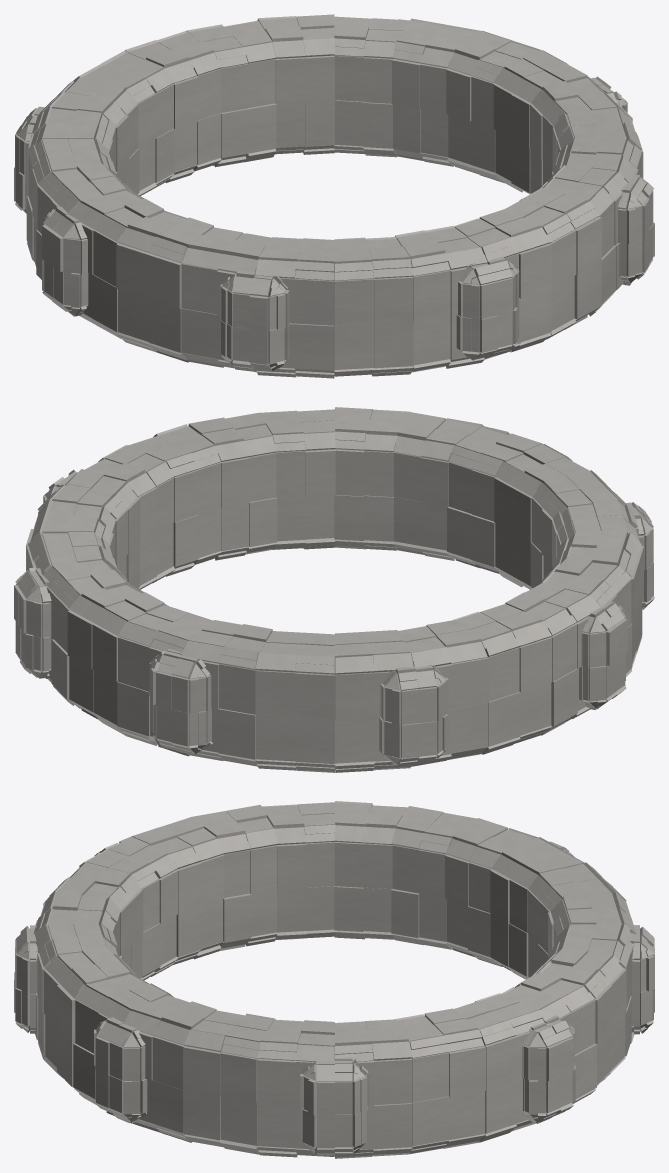
The model's file is 코어하우징.glb.
The picture shows the model from 3 angles, top to bottom: view 1: azimuth 30°, elevation 25°; view 2: azimuth 150°, elevation 25°; view 3: azimuth 270°, elevation 25°; orthographic projection. The views are drawn at different scales.
Visible parts, largest first — view 1: 코어하우징_구움; view 2: 코어하우징_구움; view 3: 코어하우징_구움.
Part boxes in pixels (left/top/right/bottom): 코어하우징_구움: left=14, top=14, right=654, bottom=378; 코어하우징_구움: left=14, top=407, right=654, bottom=772; 코어하우징_구움: left=14, top=801, right=654, bottom=1158.
Size of the model in its own units: 2.15 by 0.43 by 2.14.
1 material, 1 textured.
